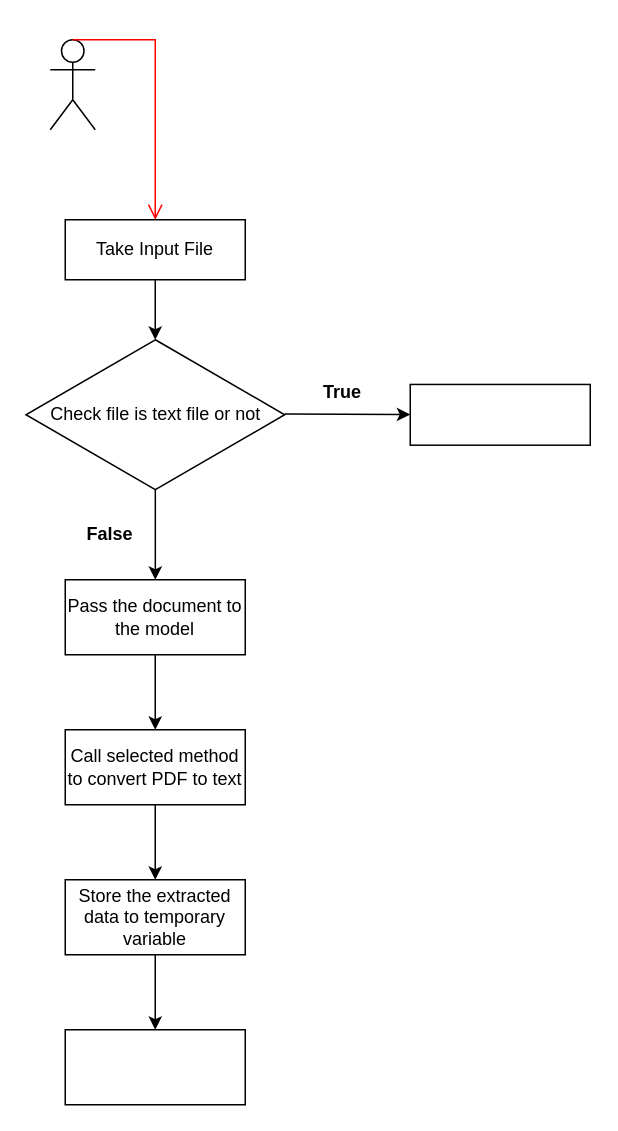
Some shapes in this 618 by 1131 pixel diagram are drawn without their labels. Each missing label, with the centre of its shape:
Actor: pixel 72 84
Extraction of Keywords from various languages: pixel 154 1066
